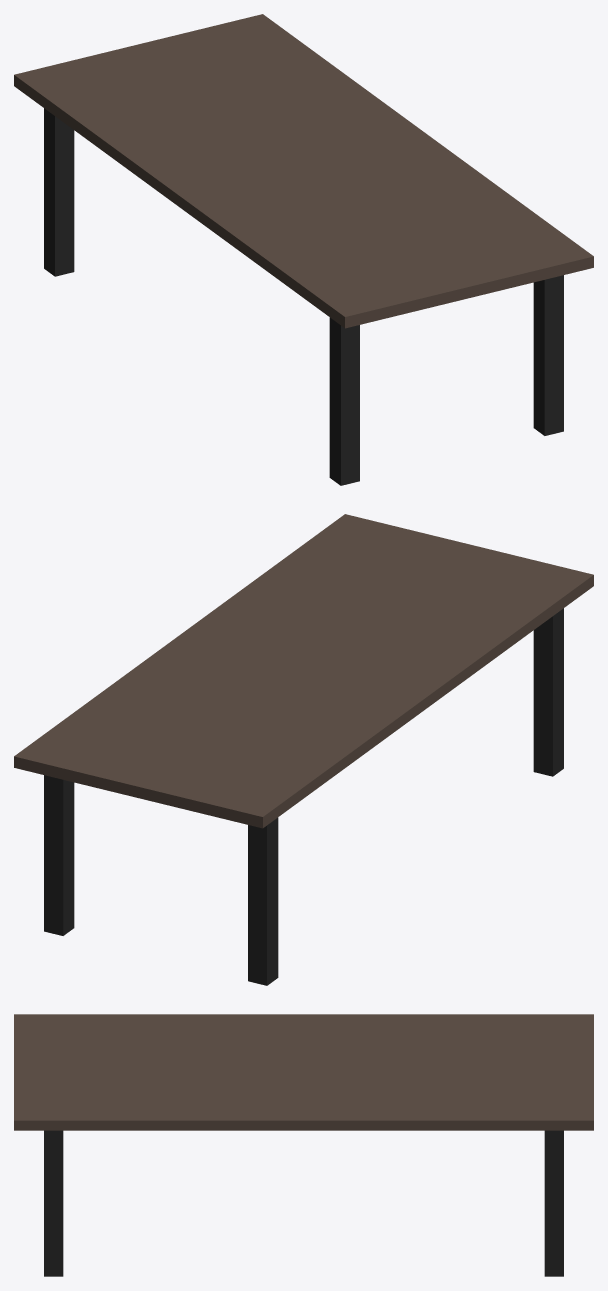
File: GrandeTable_31.fbx
The picture shows the model from 3 angles, top to bottom: view 1: azimuth 30°, elevation 25°; view 2: azimuth 150°, elevation 25°; view 3: azimuth 270°, elevation 25°; orthographic projection. The views are drawn at different scales.
Visible parts, largest first — view 1: pCube79, pCube77, pCube75, pCube78; view 2: pCube79, pCube75, pCube77, pCube76; view 3: pCube79, pCube78, pCube76.
Part boxes in pixels (box(x1,y1,x2,y2)): pCube79: box(14, 14, 593, 328); pCube77: box(329, 317, 359, 485); pCube75: box(44, 108, 74, 276); pCube78: box(533, 275, 563, 435); pCube79: box(14, 514, 593, 828); pCube75: box(248, 817, 278, 985); pCube77: box(533, 608, 563, 776); pCube76: box(44, 775, 74, 935); pCube79: box(14, 1014, 593, 1130); pCube78: box(44, 1130, 63, 1276); pCube76: box(544, 1130, 563, 1276).
Size of the model in its own units: 53.95 by 38.21 by 124.
